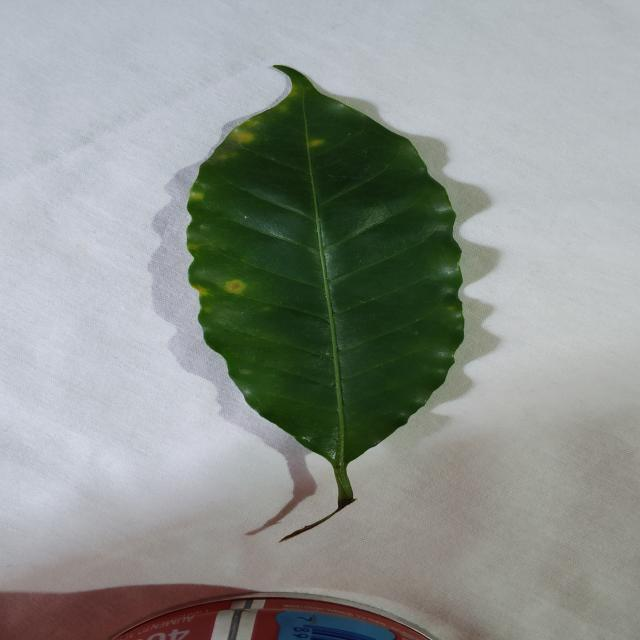Enfermedad-Roya: (185, 65, 467, 512)
